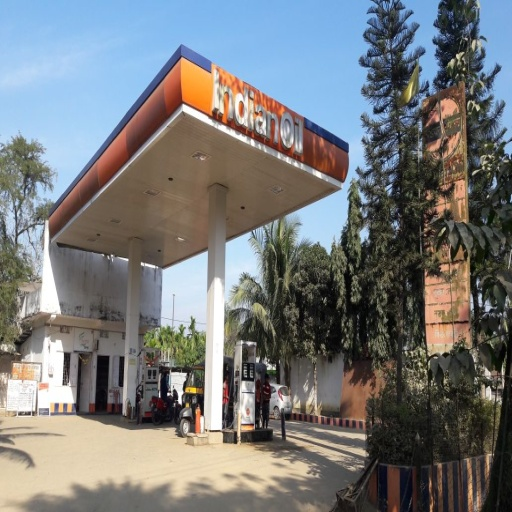roof: (45, 43, 345, 267)
